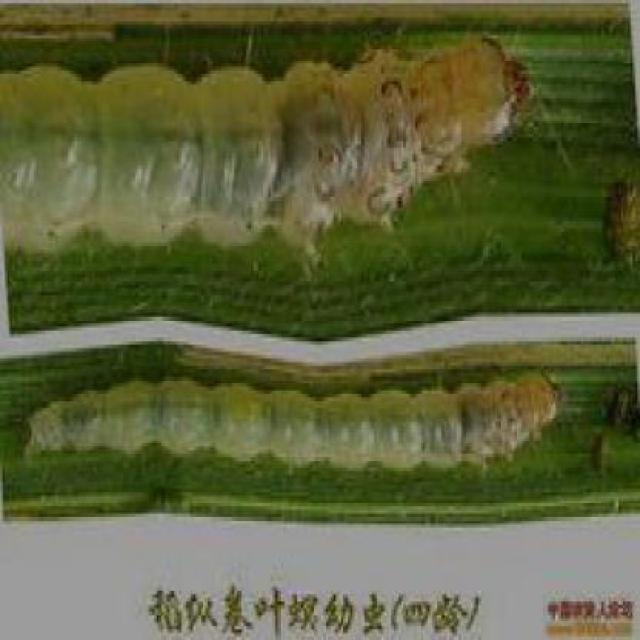leaf-folder: (18, 22, 540, 278), (21, 356, 573, 484)
